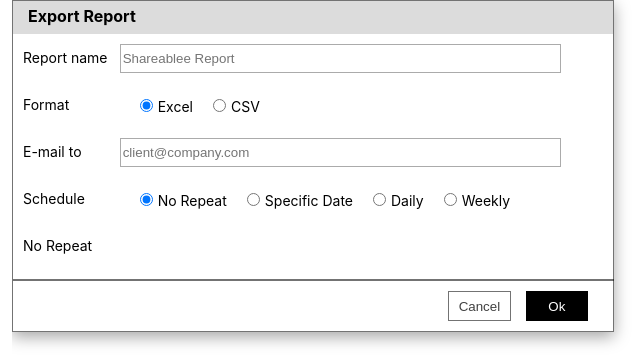
Export report modal basic functionalities tests › should be able to check format radio buttons
Click the radio button labelled "CSV": {"x": 220, "y": 106} [213, 99, 226, 112]
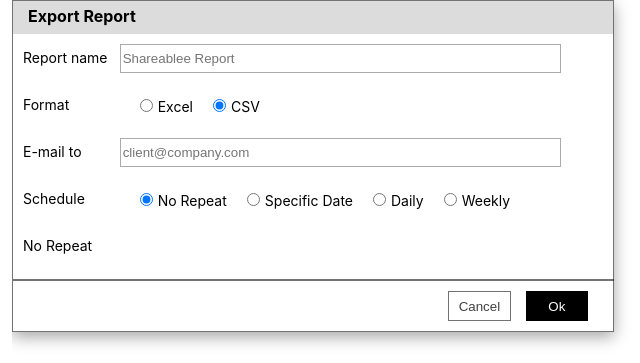
Expected: the radio button labelled "CSV" is checked, [213, 99, 226, 112]
Expected: the radio button labelled "Excel" is not checked, [140, 99, 153, 112]
